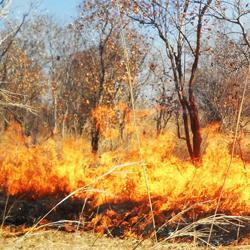fire: (8, 136, 173, 194), (183, 163, 249, 201)
